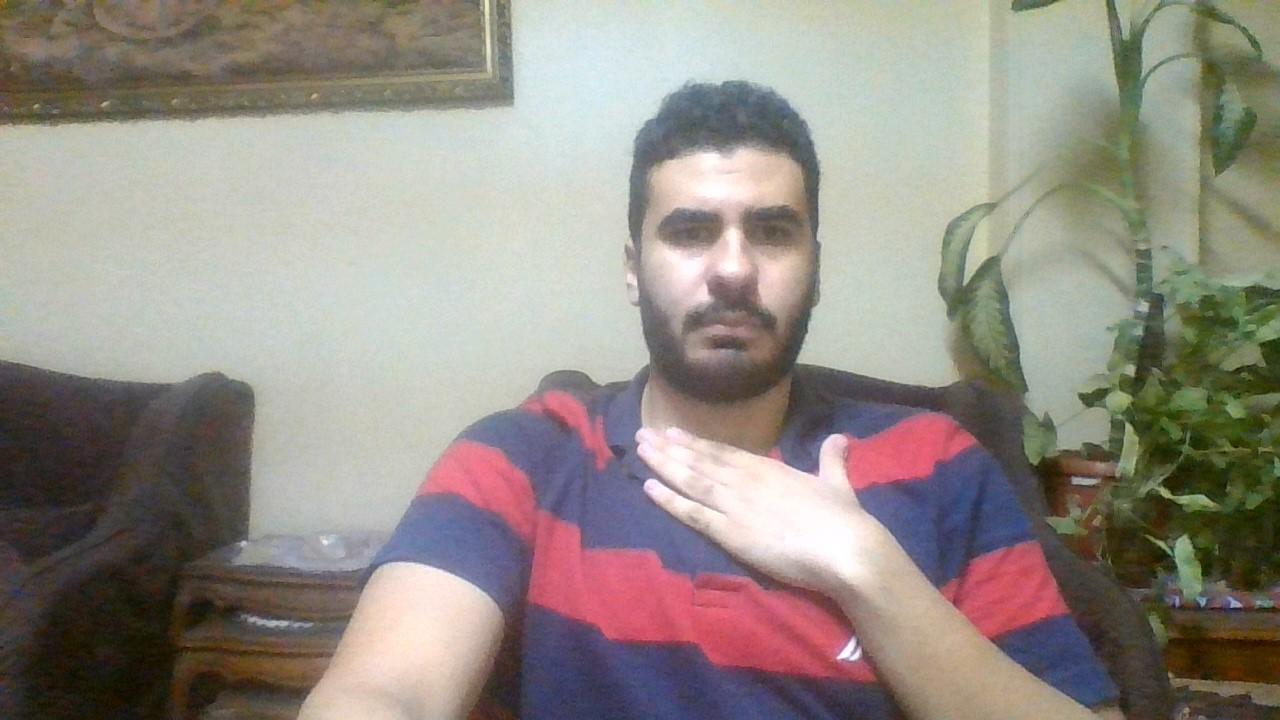please: (626, 407, 921, 603)
